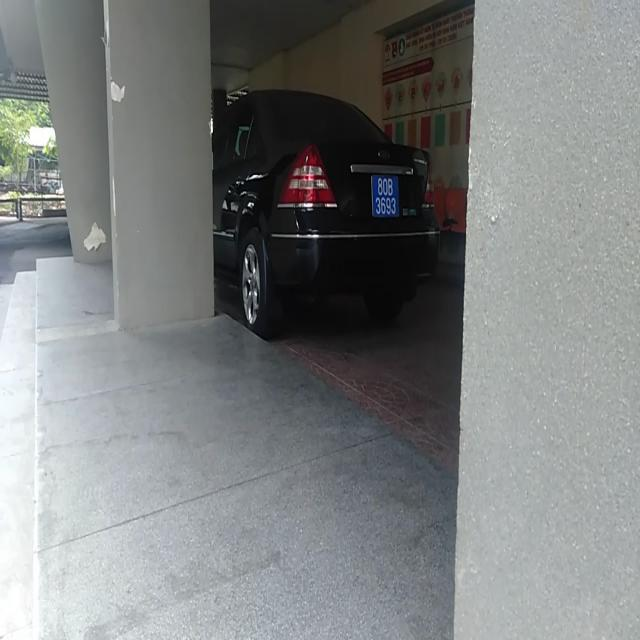bien_xanh: (366, 166, 406, 232)
